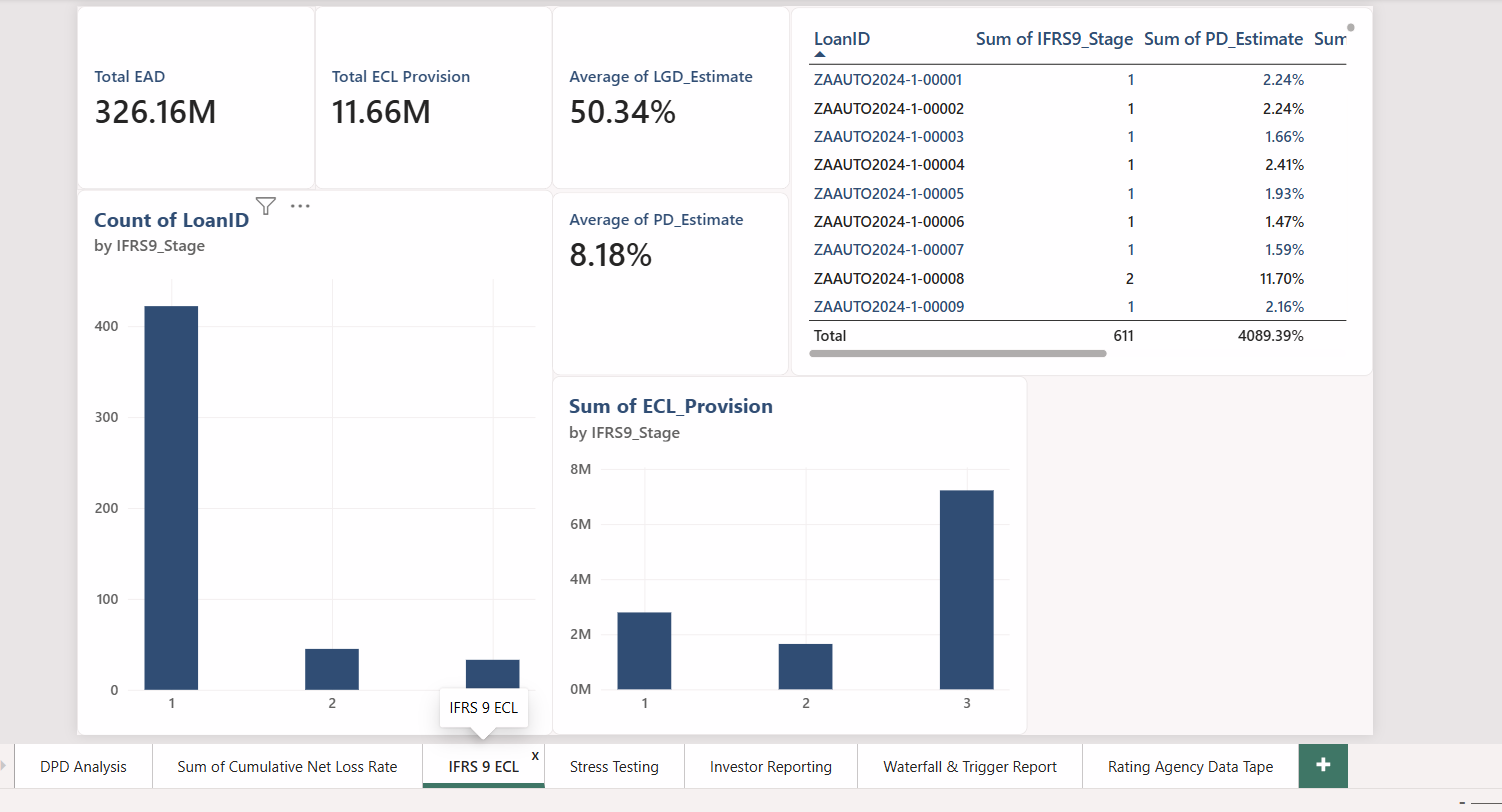

This screenshot's page, from the dashboard's own definition file:
{"tool":"powerbi","page":{"name":"IFRS 9 ECL","canvas":[1280,720],"ordinal":2},"visuals":[{"type":"clusteredColumnChart","fields":{"Category":["auto_loan_securitisation_data.IFRS9_Stage"],"Y":["Count(auto_loan_securitisation_data.LoanID)"]},"box":[0,0,470.5,359.5],"z":0},{"type":"clusteredColumnChart","fields":{"Category":["auto_loan_securitisation_data.IFRS9_Stage"],"Y":["Sum(auto_loan_securitisation_data.ECL_Provision)"]},"box":[471.2,0,469.3,354.7],"z":1000},{"type":"cardVisual","fields":{"Data":["DimBorrower.Total ECL Provision"]},"box":[0,359.5,235.3,360.7],"z":2000},{"type":"cardVisual","fields":{"Data":["DimBorrower.Total EAD"]},"box":[235.3,359.5,235.3,360.7],"z":3000},{"type":"cardVisual","fields":{"Data":["Avg(auto_loan_securitisation_data.PD_Estimate)"]},"box":[939.8,0,340.2,359.5],"z":4000},{"type":"tableEx","fields":{"Values":["auto_loan_securitisation_data.LoanID","Sum(auto_loan_securitisation_data.IFRS9_Stage)","Sum(auto_loan_securitisation_data.PD_Estimate)","Sum(auto_loan_securitisation_data.LGD_Estimate)","Sum(auto_loan_securitisation_data.EAD)","Sum(auto_loan_securitisation_data.ECL_Provision)"]},"box":[471,360,469,360],"z":5000},{"type":"cardVisual","fields":{"Data":["Avg(auto_loan_securitisation_data.LGD_Estimate)"]},"box":[939.8,359.5,340.2,360.7],"z":6000}]}

Visuals, with their boxes on the page's 1280x720 design canvas (x1, y1, x2, y2). These are canvas units, not pixel positions in the 1502x812 screenshot, which may show the page scaled, cropped or inside an application window:
clusteredColumnChart - auto_loan_securitisation_data.IFRS9_Stage x Count(auto_loan_securitisation_data.LoanID): bbox=(0, 0, 470, 360)
clusteredColumnChart - auto_loan_securitisation_data.IFRS9_Stage x Sum(auto_loan_securitisation_data.ECL_Provision): bbox=(471, 0, 940, 355)
cardVisual - DimBorrower.Total ECL Provision: bbox=(0, 360, 235, 720)
cardVisual - DimBorrower.Total EAD: bbox=(235, 360, 471, 720)
cardVisual - Avg(auto_loan_securitisation_data.PD_Estimate): bbox=(940, 0, 1280, 360)
tableEx - auto_loan_securitisation_data.LoanID x Sum(auto_loan_securitisation_data.IFRS9_Stage): bbox=(471, 360, 940, 720)
cardVisual - Avg(auto_loan_securitisation_data.LGD_Estimate): bbox=(940, 360, 1280, 720)
